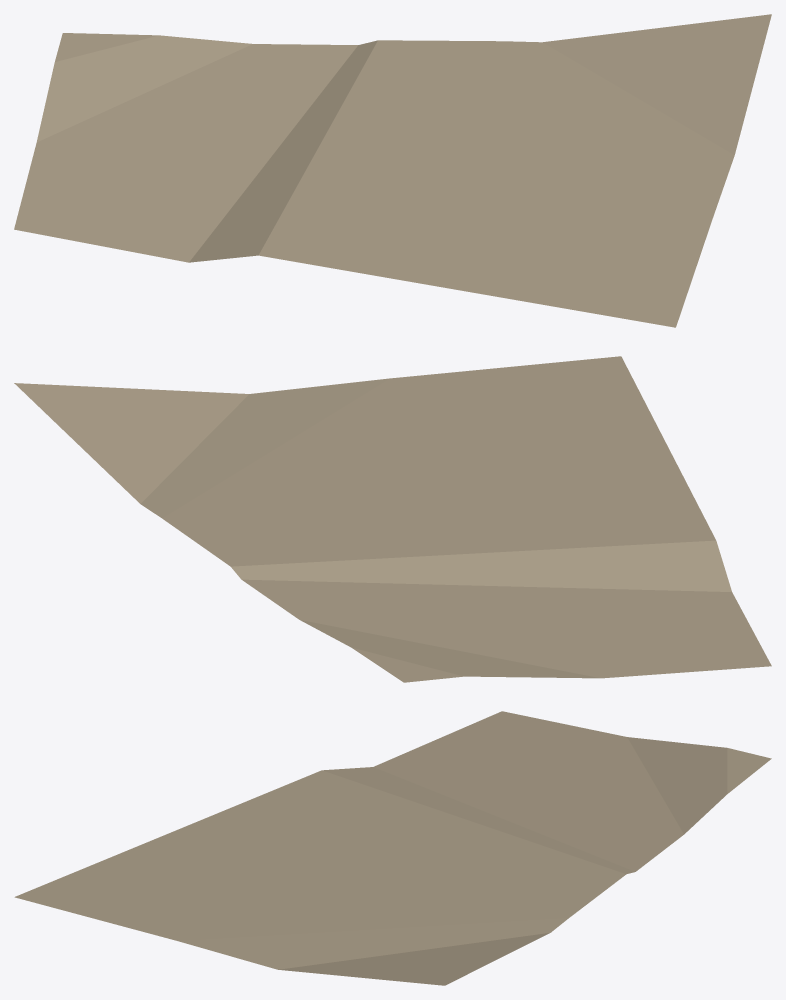
Rendered from farm_-9_11_soil.glb.
3 views of the same model, one above another, from view 1: azimuth 30°, elevation 25°; view 2: azimuth 150°, elevation 25°; view 3: azimuth 270°, elevation 25° (orthographic). The views are drawn at different scales.
Visible parts, largest first — view 1: geometry_0; view 2: geometry_0; view 3: geometry_0.
Boxes of the visible parts, left/top/right/bottom form: geometry_0: left=14, top=14, right=771, bottom=327; geometry_0: left=14, top=356, right=771, bottom=682; geometry_0: left=14, top=711, right=771, bottom=985.
Bounding box in the file's own units: 84.07 × 7.58 × 81.38.
